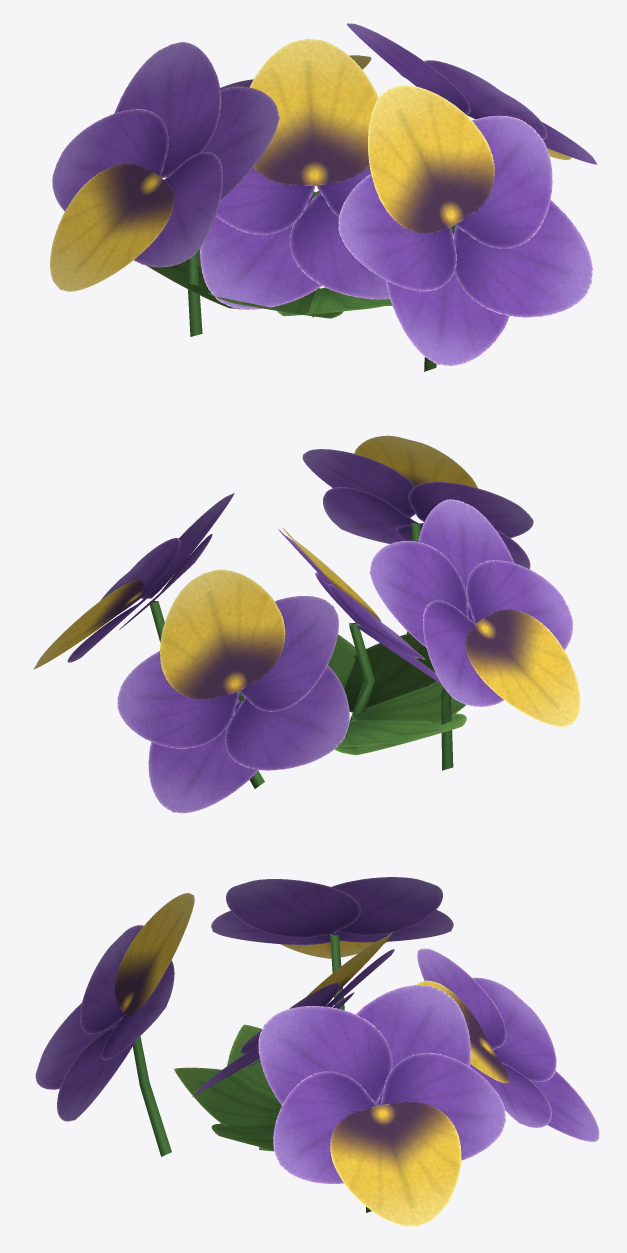
The model's file is flower-pansy.glb.
The picture shows the model from 3 angles, top to bottom: view 1: azimuth 30°, elevation 25°; view 2: azimuth 150°, elevation 25°; view 3: azimuth 270°, elevation 25°; orthographic projection. The views are drawn at different scales.
Visible parts, largest first — view 1: Flower; view 2: Flower; view 3: Flower.
Boxes of the visible parts, left/top/right/bottom form: Flower: left=50, top=23, right=597, bottom=371; Flower: left=33, top=435, right=580, bottom=813; Flower: left=35, top=877, right=599, bottom=1226.
Bounding box in the file's own units: 0.731 × 0.3551 × 0.7325.
1 material, 1 textured.
